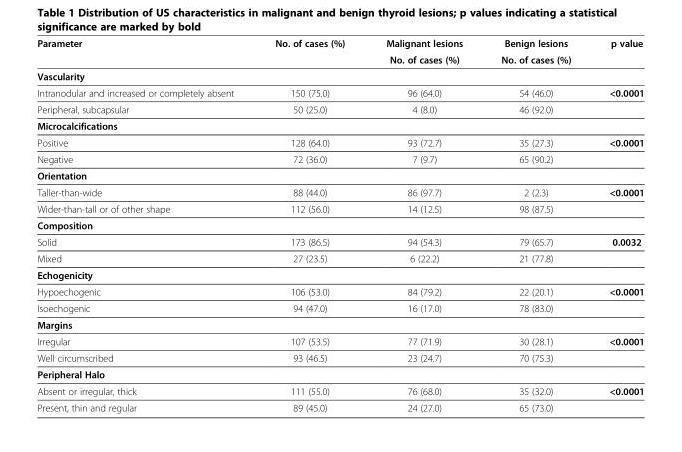table: (36, 37, 643, 413)
table column: (36, 37, 253, 413), (364, 37, 481, 413), (253, 37, 364, 413), (481, 37, 589, 413), (589, 37, 643, 413)
table column header: (36, 37, 643, 67)
table projected row header: (36, 67, 643, 84), (36, 216, 643, 233), (36, 266, 643, 283), (36, 365, 643, 382), (36, 117, 643, 133), (36, 167, 643, 183), (36, 316, 643, 332)
table row: (36, 67, 643, 84), (36, 100, 643, 117), (36, 133, 643, 150), (36, 150, 643, 167), (36, 183, 643, 200), (36, 216, 643, 233), (36, 233, 643, 250), (36, 266, 643, 283), (36, 299, 643, 316), (36, 332, 643, 349), (36, 365, 643, 382), (36, 382, 643, 399), (36, 51, 643, 67), (36, 84, 643, 100), (36, 117, 643, 133), (36, 167, 643, 183), (36, 200, 643, 216), (36, 250, 643, 266), (36, 283, 643, 299), (36, 316, 643, 332), (36, 349, 643, 365), (36, 37, 643, 51), (36, 399, 643, 413)
table spanning cell: (36, 37, 253, 67), (364, 37, 481, 67), (253, 37, 364, 67), (481, 37, 589, 67), (589, 37, 643, 67)
